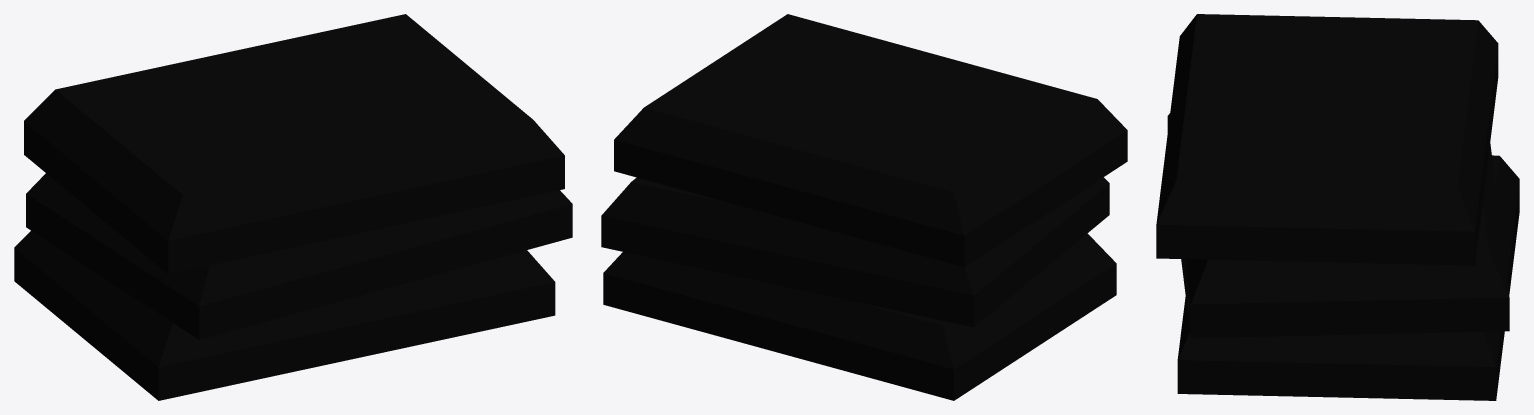
File: SM_blankets_folded.fbx
3 views of the same model, side by side, from view 1: azimuth 30°, elevation 25°; view 2: azimuth 150°, elevation 25°; view 3: azimuth 270°, elevation 25° (orthographic). The views are drawn at different scales.
Visible parts, largest first — view 1: blankets_folded; view 2: blankets_folded; view 3: blankets_folded.
Part boxes in pixels (bbox=[...]): blankets_folded: bbox=[14, 14, 572, 400]; blankets_folded: bbox=[601, 14, 1127, 400]; blankets_folded: bbox=[1156, 14, 1519, 400].
Bounding box in the file's own units: 0.4467 × 0.21 × 0.3415.
